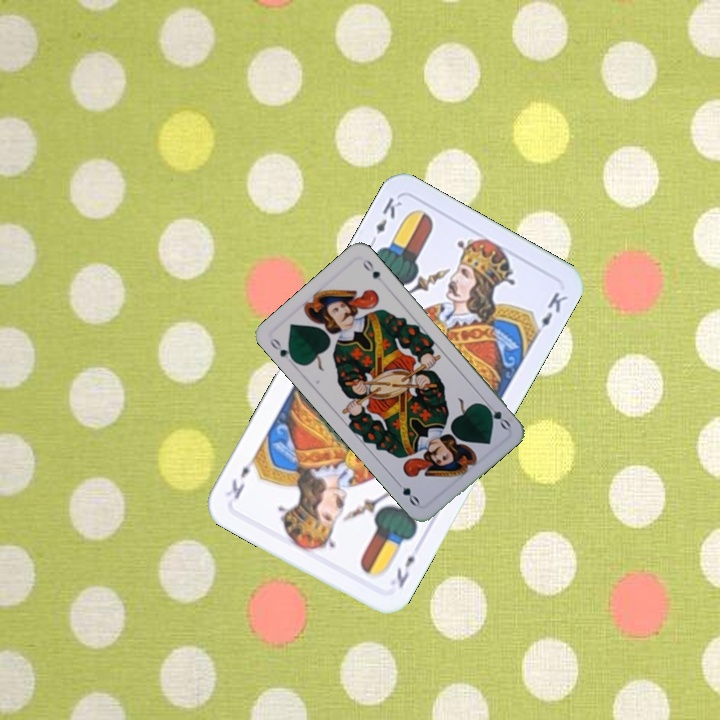EK: (365, 193, 405, 249), (392, 551, 418, 591)
GO: (479, 397, 513, 432), (265, 333, 299, 366)
